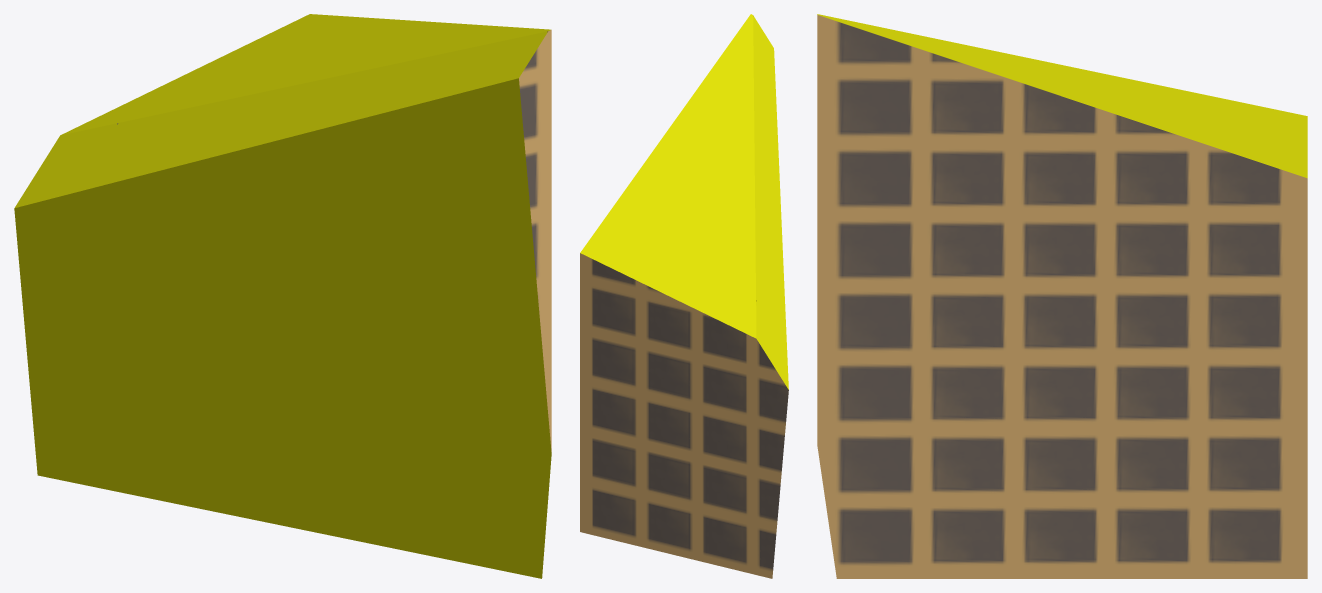
The model's file is ST2Shard3.fbx.
3 views of the same model, side by side, from view 1: azimuth 30°, elevation 25°; view 2: azimuth 150°, elevation 25°; view 3: azimuth 270°, elevation 25° (orthographic). The views are drawn at different scales.
Visible parts, largest first — view 1: shard3; view 2: shard3; view 3: shard3.
Boxes of the visible parts, bbox=[...] form: shard3: bbox=[14, 14, 551, 578]; shard3: bbox=[580, 14, 788, 578]; shard3: bbox=[817, 14, 1307, 578].
Bounding box in the file's own units: 0.0723 × 0.1301 × 0.1025.
Materials: 2 (1 with a texture image).
